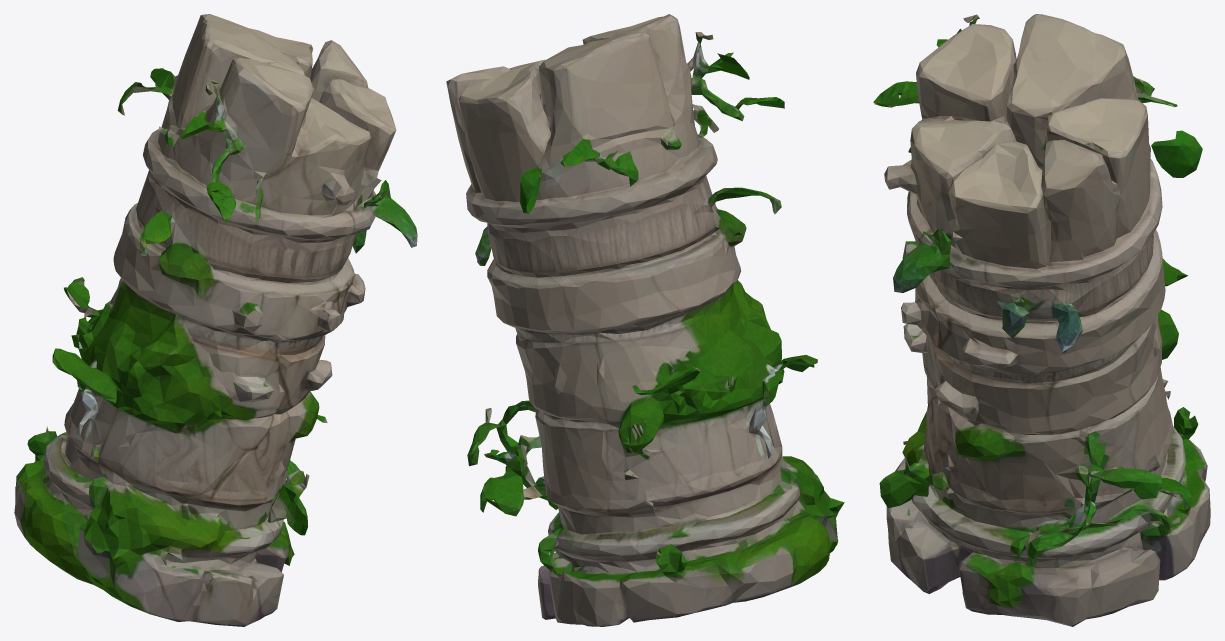
Rendered from ruin_pillar.glb.
3 views of the same model, side by side, from view 1: azimuth 30°, elevation 25°; view 2: azimuth 150°, elevation 25°; view 3: azimuth 270°, elevation 25° (orthographic). The views are drawn at different scales.
Visible parts, largest first — view 1: tmpiisyeydd.ply; view 2: tmpiisyeydd.ply; view 3: tmpiisyeydd.ply.
Boxes of the visible parts, box(x1,y1,x2,y2) form: tmpiisyeydd.ply: box(14, 14, 417, 626); tmpiisyeydd.ply: box(446, 14, 844, 626); tmpiisyeydd.ply: box(873, 14, 1210, 626).
Size of the model in its own units: 1.33 by 2.01 by 1.06.
Materials: 1 (1 with a texture image).
